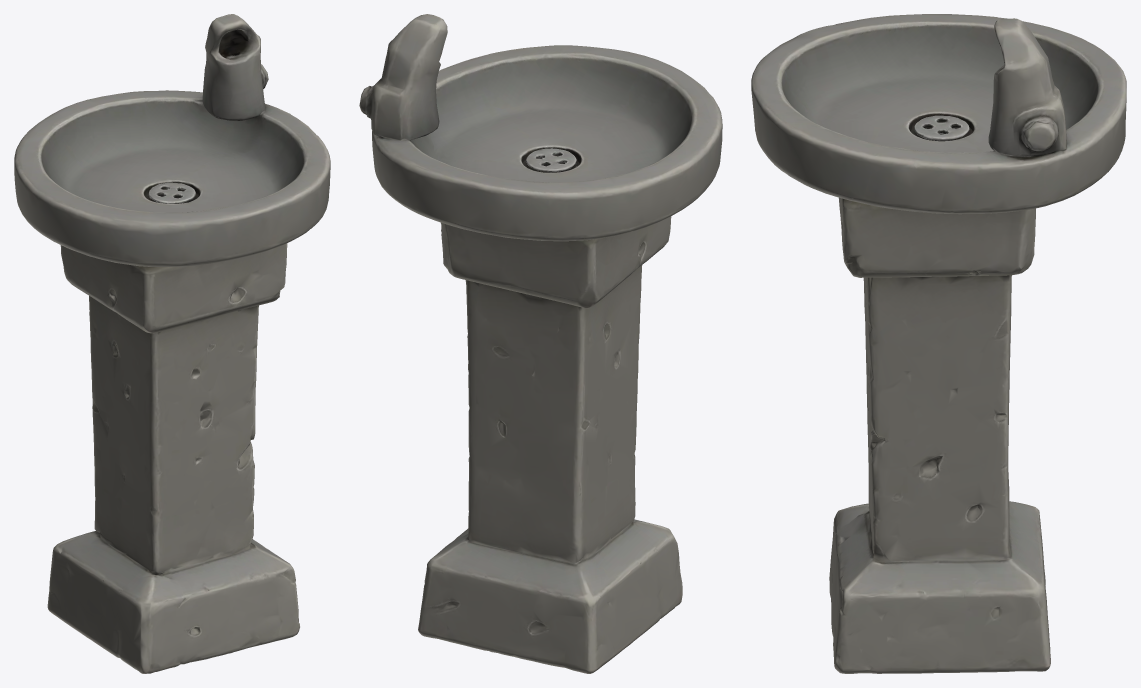
File: bebedero_esc.glb
3 views of the same model, side by side, from view 1: azimuth 30°, elevation 25°; view 2: azimuth 150°, elevation 25°; view 3: azimuth 270°, elevation 25° (orthographic). The views are drawn at different scales.
Visible parts, largest first — view 1: tripo_node_817886d5-3e5e-4fc0-8c94-d3a574ad377a; view 2: tripo_node_817886d5-3e5e-4fc0-8c94-d3a574ad377a; view 3: tripo_node_817886d5-3e5e-4fc0-8c94-d3a574ad377a.
Part boxes in pixels (<box>): tripo_node_817886d5-3e5e-4fc0-8c94-d3a574ad377a: <box>14,14,330,673</box>; tripo_node_817886d5-3e5e-4fc0-8c94-d3a574ad377a: <box>359,14,722,673</box>; tripo_node_817886d5-3e5e-4fc0-8c94-d3a574ad377a: <box>751,14,1126,673</box>.
Size of the model in its own units: 0.5078 by 1 by 0.5194.
1 material, 1 textured.
